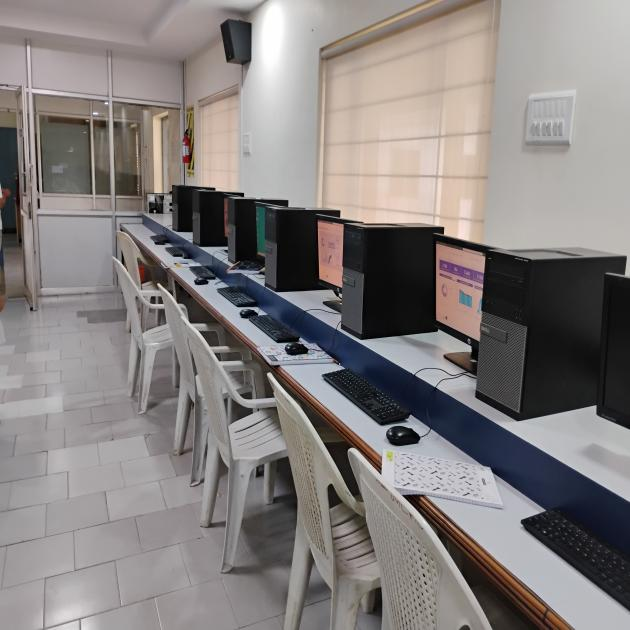cpu: (486, 240, 609, 418), (263, 207, 323, 297), (191, 187, 239, 245)
desk: (133, 210, 627, 627)
fireestinguisher: (178, 98, 202, 184)
speaker: (222, 15, 270, 88)
windowscreen: (320, 13, 520, 230)
